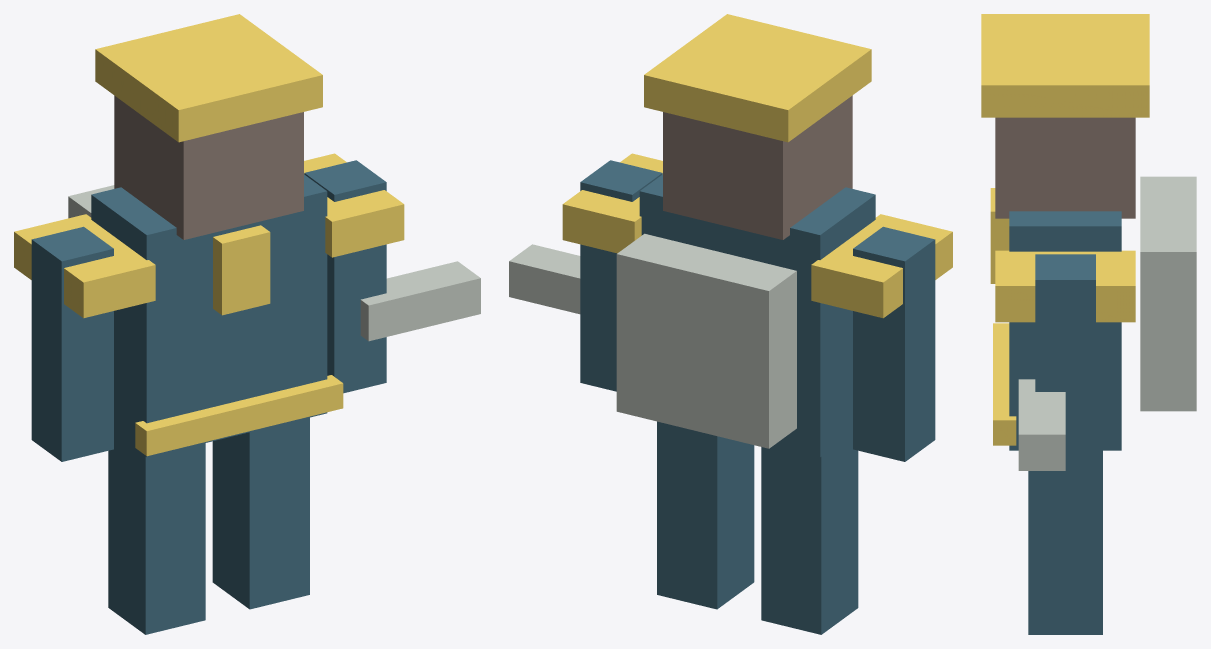
Rendered from 06_zerin_cragwarden_specialist_of_deepwater.glb.
3 renders of one model, left to right at view 1: azimuth 30°, elevation 25°; view 2: azimuth 150°, elevation 25°; view 3: azimuth 270°, elevation 25°, orthographic.
Parts seen in each view (by area): view 1: Zerin Cragwarden, Specialist of Deepwater; view 2: Zerin Cragwarden, Specialist of Deepwater; view 3: Zerin Cragwarden, Specialist of Deepwater.
Boxes of the visible parts, bbox=[...] form: Zerin Cragwarden, Specialist of Deepwater: bbox=[14, 14, 480, 634]; Zerin Cragwarden, Specialist of Deepwater: bbox=[509, 14, 952, 634]; Zerin Cragwarden, Specialist of Deepwater: bbox=[981, 14, 1196, 634].
Bounding box in the file's own units: 1.12 × 1.41 × 0.5033.
